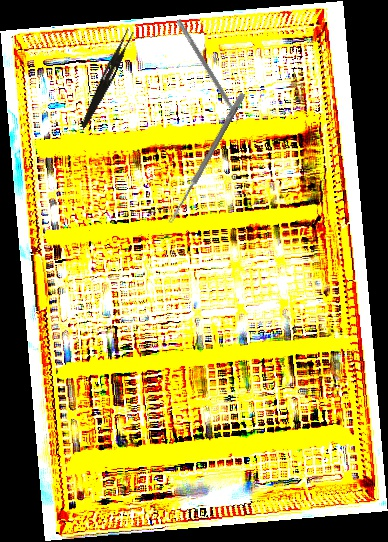Dressing Forceps: (79, 27, 135, 131)
Spatula Surgical: (171, 18, 244, 126)
Surgical Spoon: (167, 91, 246, 226)
